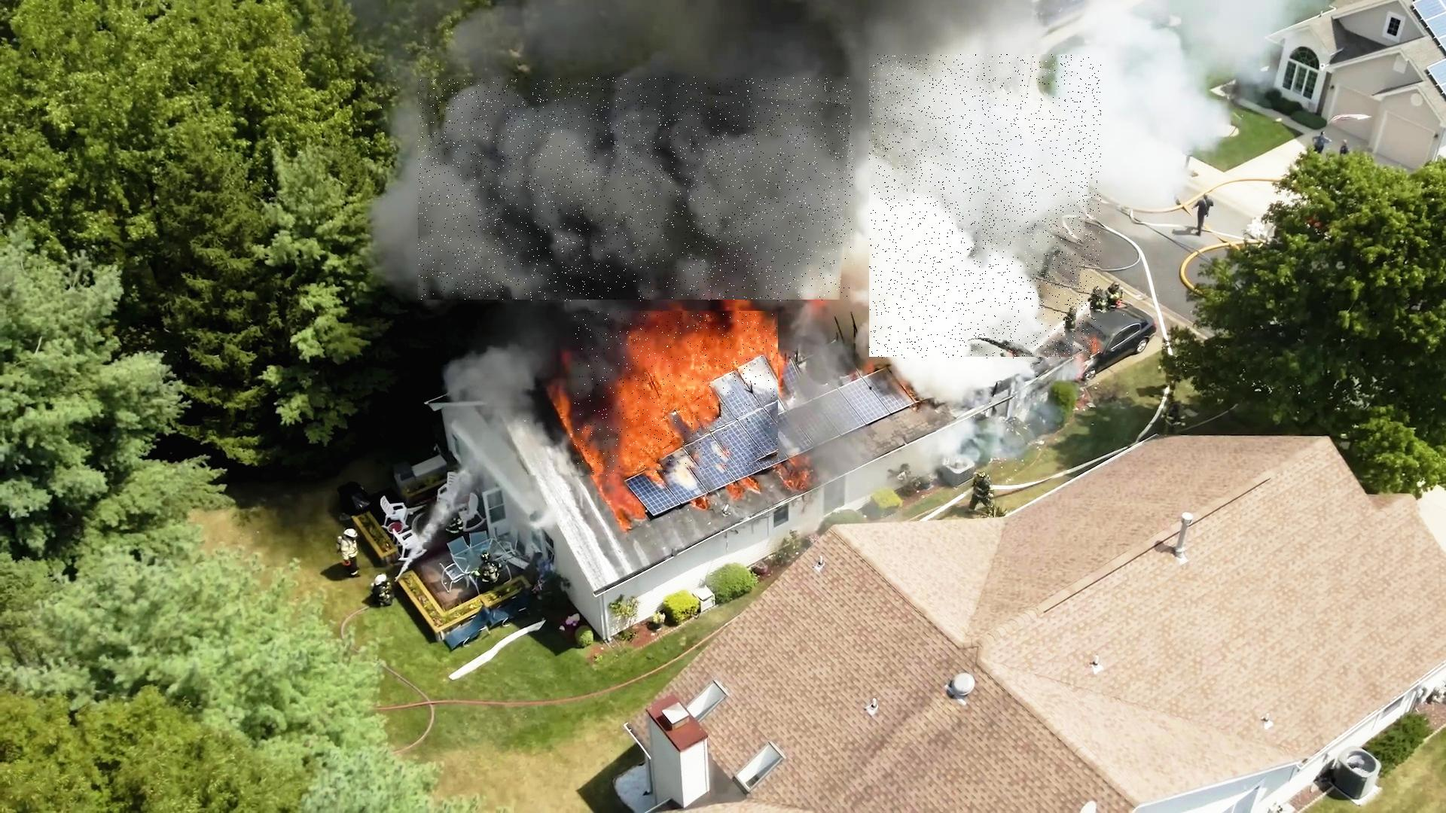fire: (575, 311, 778, 476)
smoke: (419, 77, 853, 302), (870, 55, 1102, 359)
